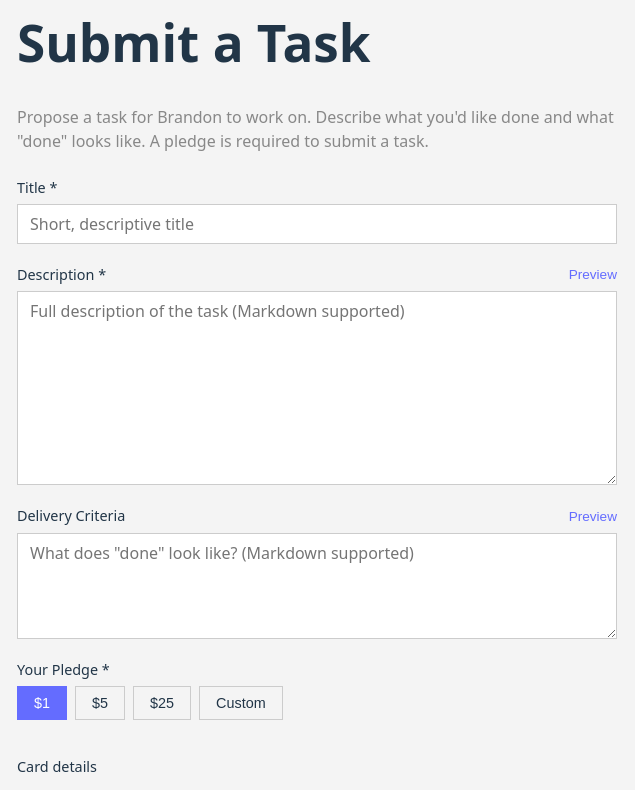
SubmitTask (non-admin) › shows stripe error message on card failure
The width and height of the screenshot is (635, 790).
Type "Task" into the field labelled "Title *" at {"x": 317, "y": 224}, box [17, 204, 617, 244]
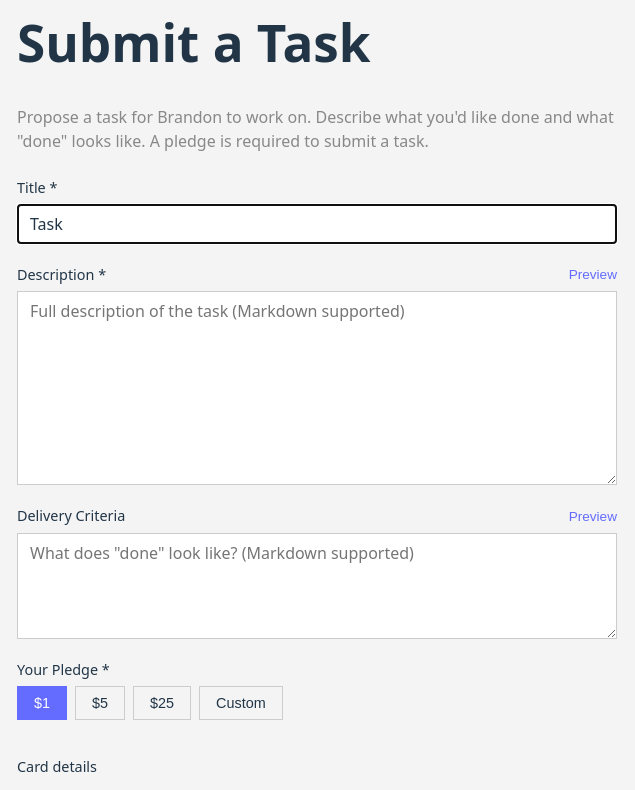
Type "Desc" into the text box labelled "Description *" at {"x": 317, "y": 388}, box [17, 291, 617, 485]
(page scrolled)
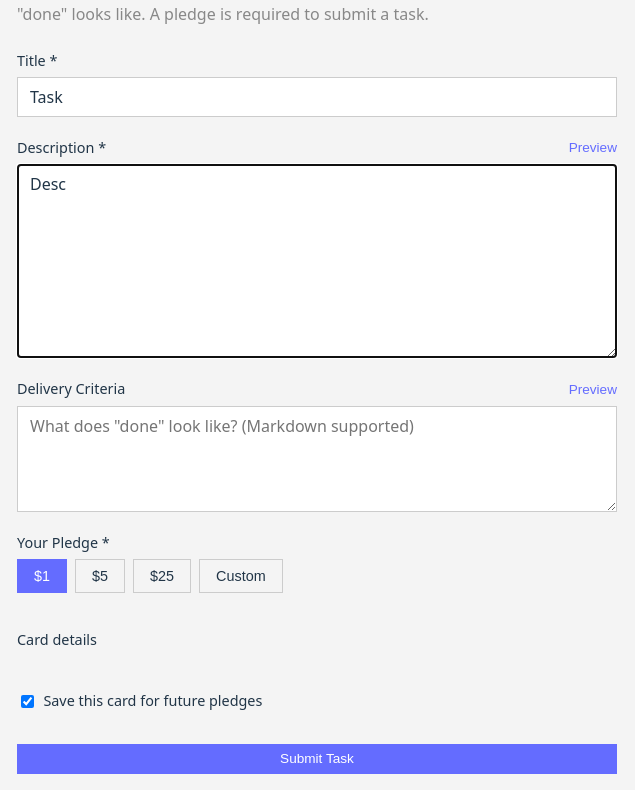
Click the button "Submit Task" at {"x": 317, "y": 759}, box [17, 744, 617, 774]
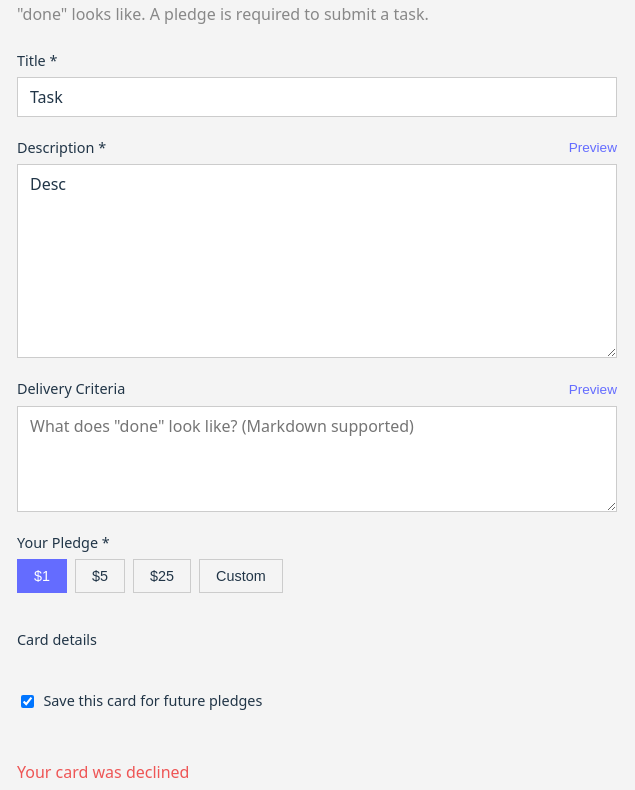
Result: the text "Your card was declined" is shown at [17, 761, 190, 783]
